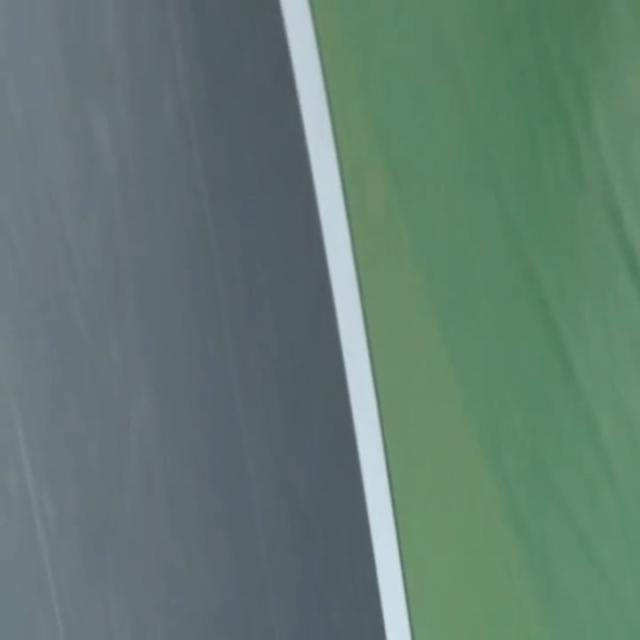right: (278, 0, 412, 639)
